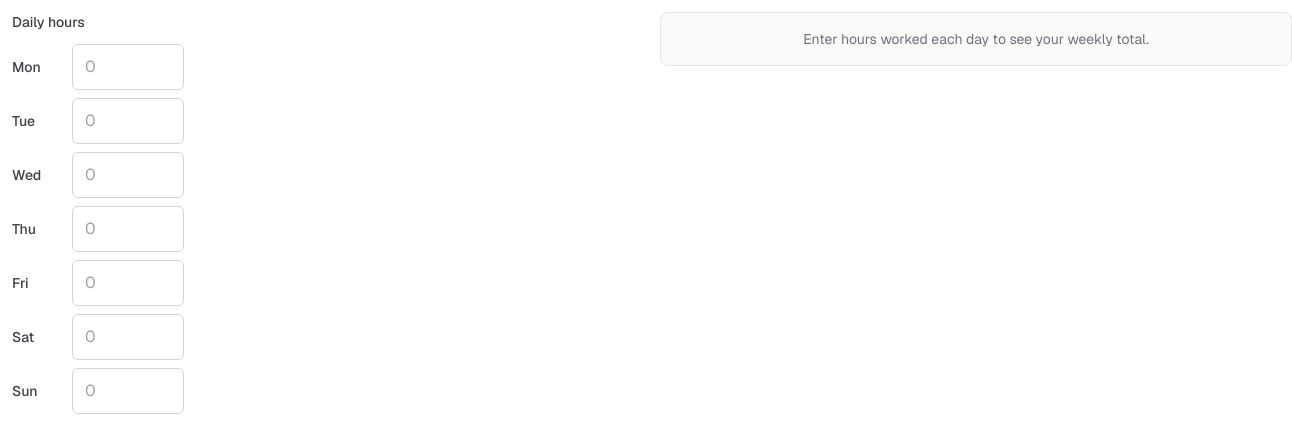
Test: TimesheetCalculator › calculates a single day (Monday 7.5)
The width and height of the screenshot is (1292, 431).
Type "7.5" into the number field named "Monday". click: (128, 67)
box: [72, 44, 184, 90]
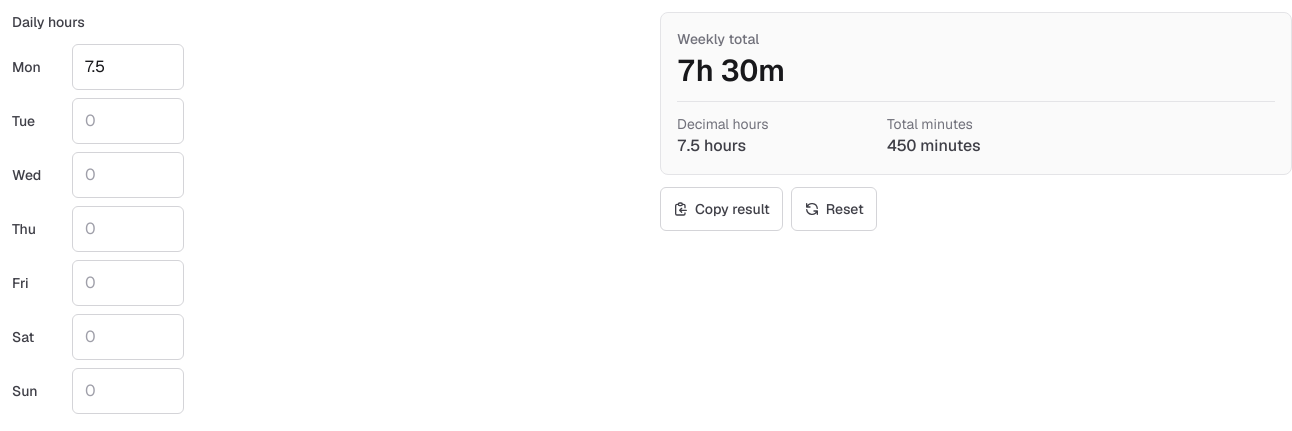
Check: the element named "Results" shows "7h 30m", box [677, 51, 785, 90]
Check: the text "7.5 hours" is shown, box [677, 135, 746, 156]
Check: the text "450 minutes" is shown, box [887, 135, 981, 156]
